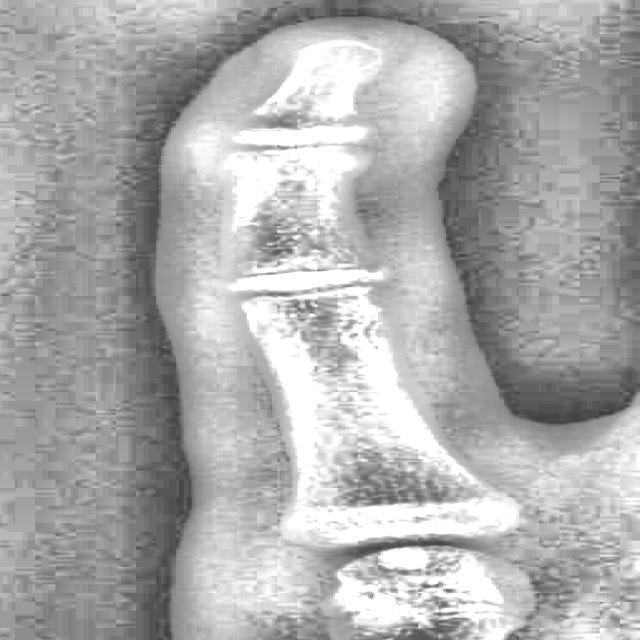fracture: (338, 255, 400, 292)
